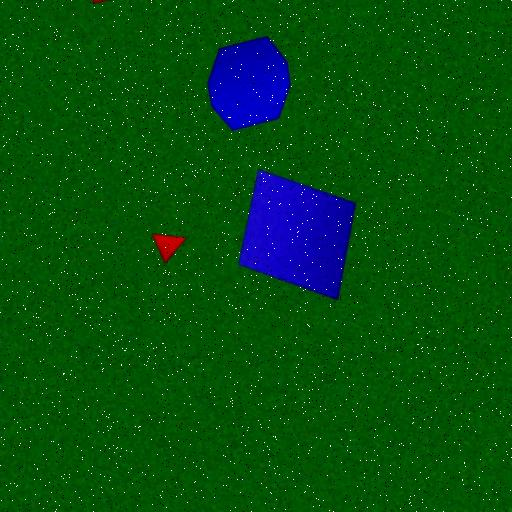BLUE_SQUARE: (238, 168, 356, 302)
